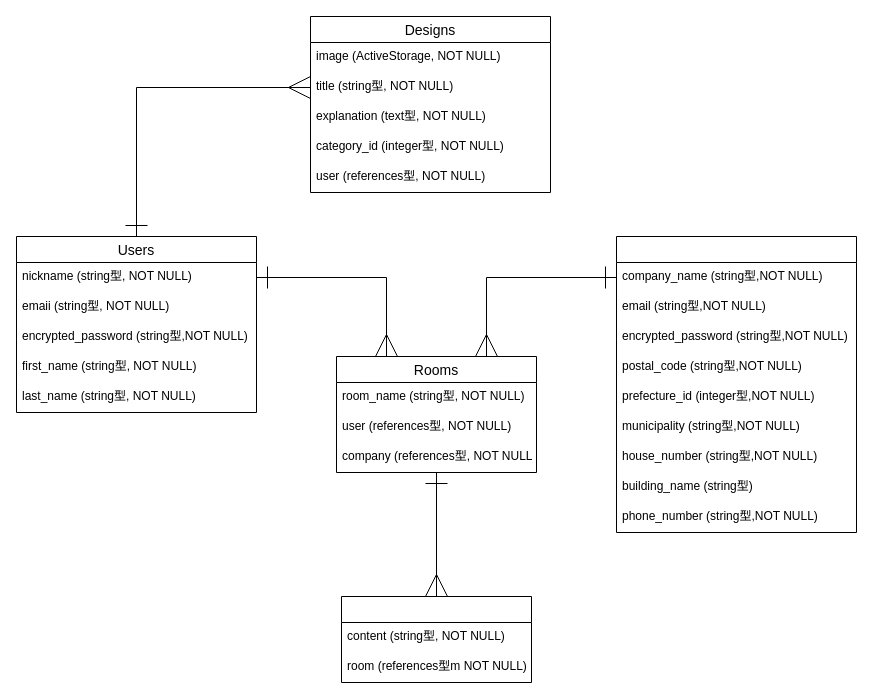
Some shapes in this 873 by 699 pixel diagram are drawn without their labels. The shapes that lost their labels are listed below. From the top down, each one's box as (x1, y1, x2, y2) in pixels, then its label:
(616, 236, 856, 532): Companies
(340, 596, 532, 682): Messages
